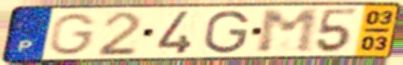2: (97, 10, 143, 57)
4: (153, 9, 195, 56)
5: (312, 7, 359, 54)
G: (201, 9, 251, 55), (48, 12, 99, 56)
M: (256, 7, 321, 55)
